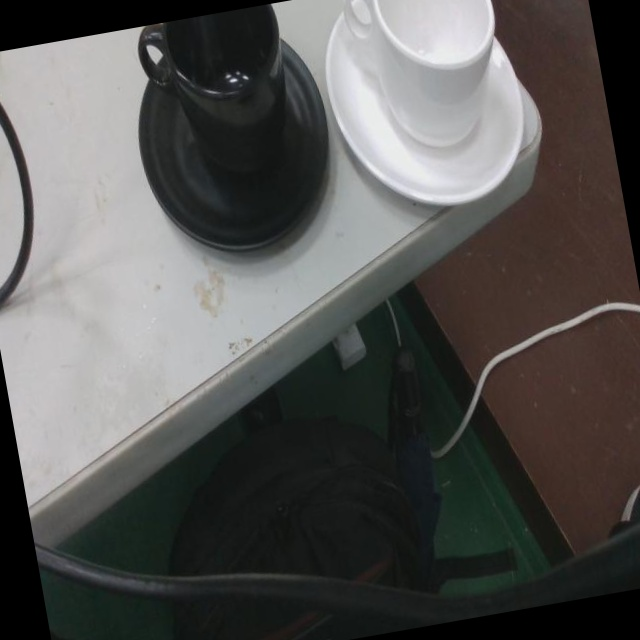black: (136, 12, 331, 261)
white: (329, 0, 524, 216)
